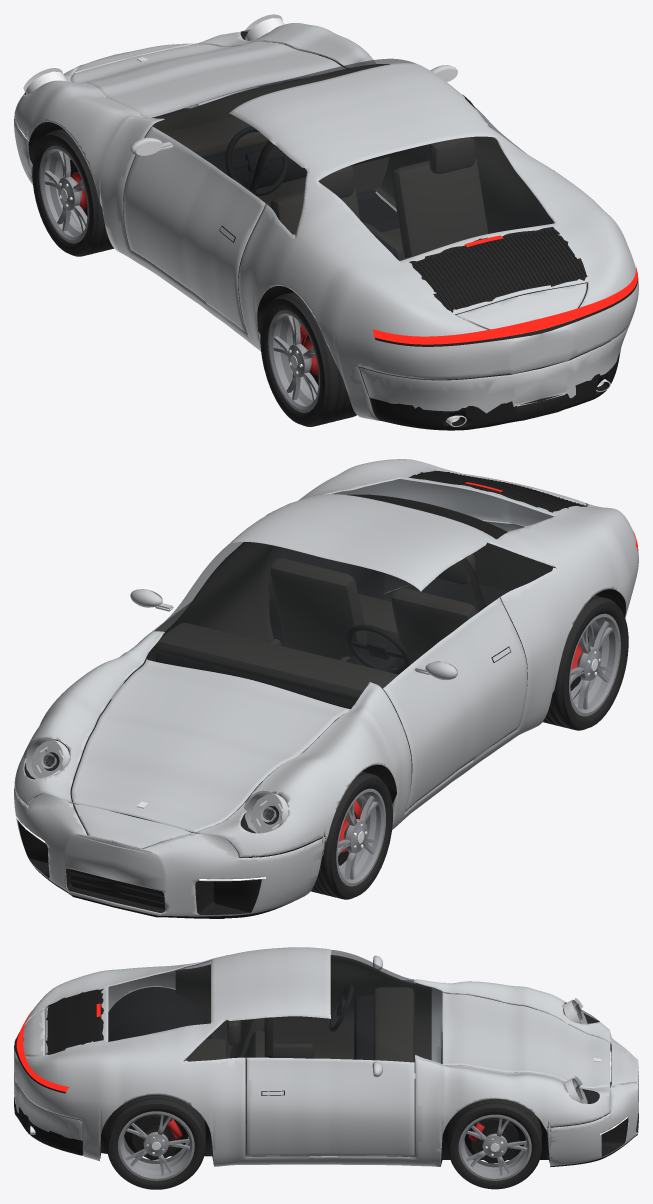
Rendered from car_lod1.glb.
3 renders of one model, top to bottom at view 1: azimuth 30°, elevation 25°; view 2: azimuth 150°, elevation 25°; view 3: azimuth 270°, elevation 25°, orthographic. The views are drawn at different scales.
Parts seen in each view (by area): view 1: body, glass, interior, door_l, bumper_rear, hood, wheel_rl, wheel_fl, lights_rear, spoiler, lights_front, bumper_front; view 2: body, glass, interior, hood, bumper_front, door_l, wheel_rl, wheel_fl, lights_front; view 3: body, glass, door_r, interior, hood, wheel_rr, wheel_fr, bumper_front, bumper_rear, lights_front, brake_rr, brake_fr (+2 smaller).
Boxes of the visible parts, x1,y1,x2,y2 form: body: (14,23,638,430); glass: (151,58,553,259); interior: (123,64,550,324); door_l: (123,126,265,333); bumper_rear: (359,323,630,430); hood: (71,41,345,117); wheel_rl: (260,292,356,426); wheel_fl: (32,128,113,256); lights_rear: (372,235,638,346); spoiler: (456,283,586,329); lights_front: (23,14,284,94); bumper_front: (14,43,282,184); body: (14,459,638,857); glass: (147,479,554,708); interior: (123,494,556,753); hood: (71,659,350,832); bumper_front: (14,786,324,918); door_l: (383,597,527,811); wheel_rl: (542,595,628,730); wheel_fl: (311,771,392,899); lights_front: (16,737,288,904); body: (14,947,638,1166); glass: (109,950,441,1063); door_r: (246,1057,414,1156); interior: (175,955,431,1157); hood: (442,992,610,1087); wheel_rr: (106,1095,205,1189); wheel_fr: (448,1099,541,1189); bumper_front: (547,1024,638,1167); bumper_rear: (14,1034,82,1155); lights_front: (563,998,627,1134); brake_rr: (132,1114,182,1160); brake_fr: (469,1118,519,1163).
Size of what is drawn, in the model's own units: 1.99 by 1.3 by 4.52.
